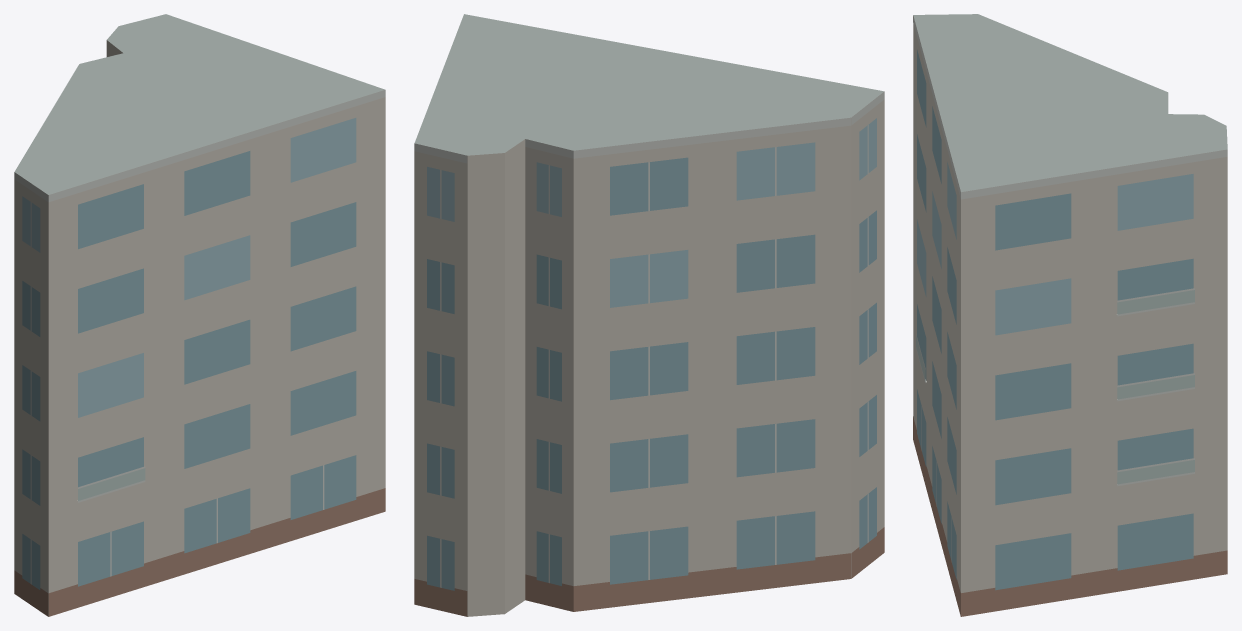
The model's file is survey-upis-32562816.glb.
3 renders of one model, left to right at view 1: azimuth 30°, elevation 25°; view 2: azimuth 150°, elevation 25°; view 3: azimuth 270°, elevation 25°, orthographic. The views are drawn at different scales.
Visible parts, largest first — view 1: survey-upis-32562816.tmp; view 2: survey-upis-32562816.tmp; view 3: survey-upis-32562816.tmp.
Part boxes in pixels (box(x1,y1,x2,y2)): survey-upis-32562816.tmp: box(14, 14, 385, 616); survey-upis-32562816.tmp: box(414, 14, 884, 616); survey-upis-32562816.tmp: box(913, 14, 1227, 616).
Size of the model in its own units: 12.79 by 14.2 by 9.54.
